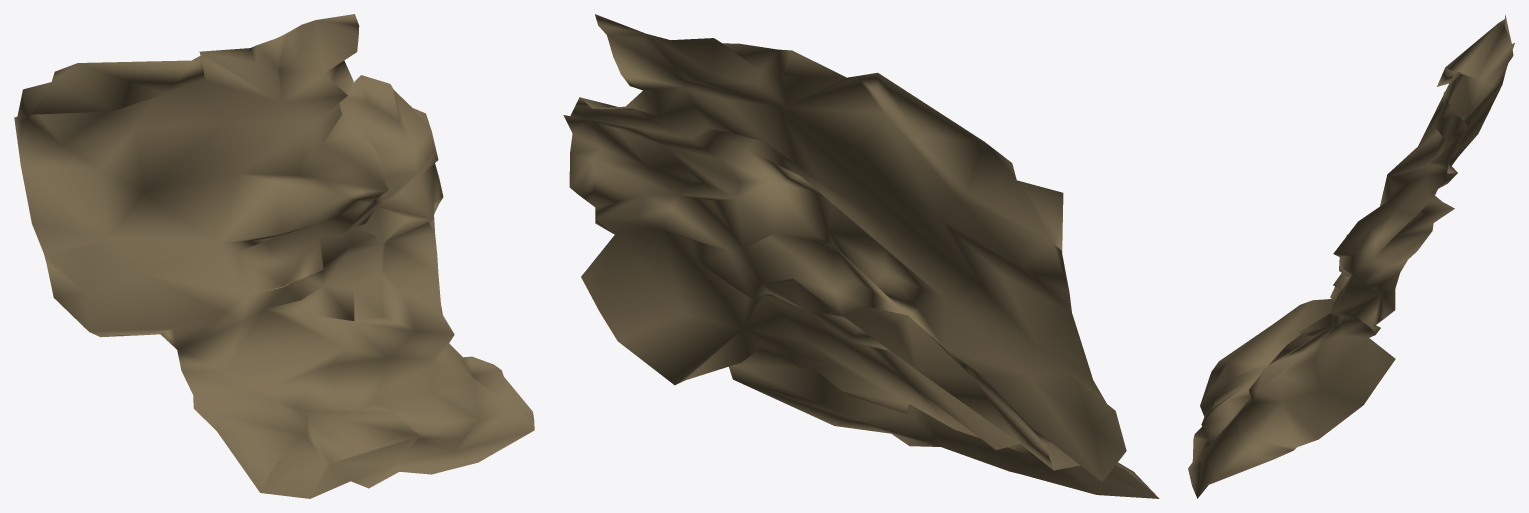
Rendered from OutcropStepped.far.gltf.
3 views of the same model, side by side, from view 1: azimuth 30°, elevation 25°; view 2: azimuth 150°, elevation 25°; view 3: azimuth 270°, elevation 25° (orthographic). The views are drawn at different scales.
Visible parts, largest first — view 1: lo; view 2: lo; view 3: lo.
Boxes of the visible parts, left/top/right/bottom form: lo: left=14, top=14, right=534, bottom=498; lo: left=563, top=14, right=1159, bottom=498; lo: left=1188, top=15, right=1514, bottom=498.
Size of the model in its own units: 3.2 by 2.92 by 2.51.
